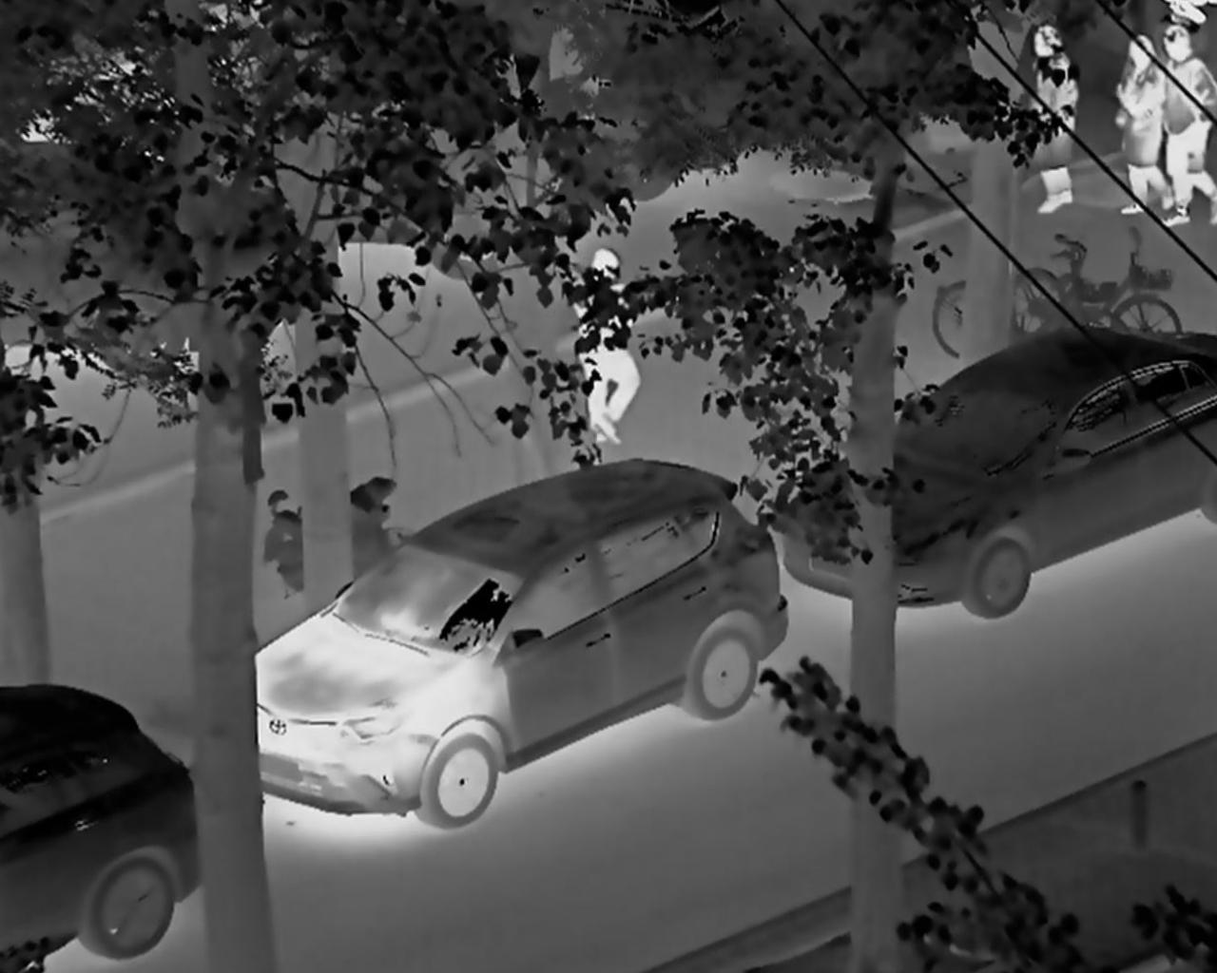person: (561, 247, 652, 469), (1020, 28, 1089, 218), (1155, 28, 1217, 237), (1113, 38, 1161, 206)
